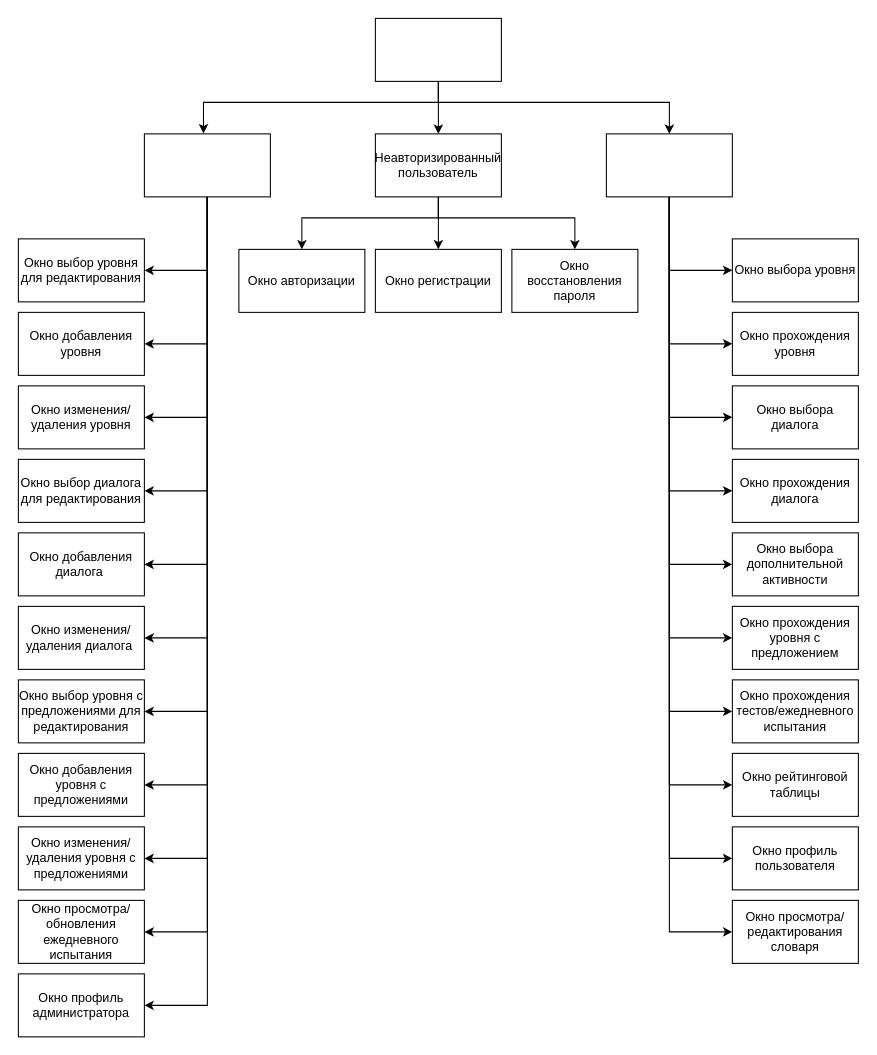
Image size: 877x1055. Some labels were removed from this diagram. The shapes that lost their labels are listed below. From the top down, each one's centre as x and y in pixels, then its label:
pixel 437 49: Мобильное приложение "Ovetaling"
pixel 206 165: Администратор
pixel 668 165: Пользователь
